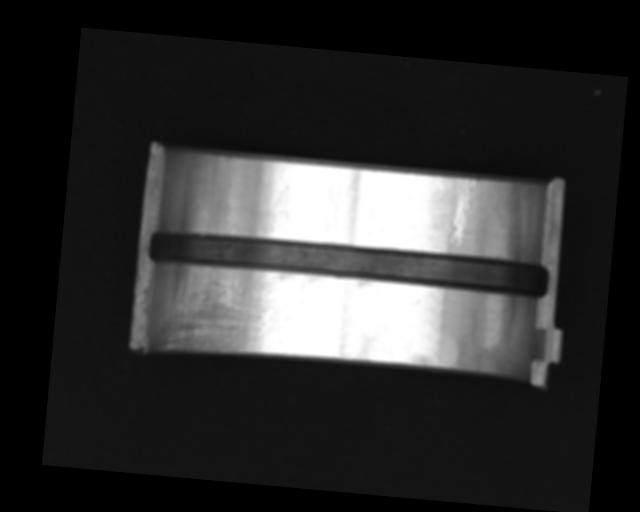gap: (147, 228, 550, 301)
nick: (448, 175, 478, 248)
scratch: (156, 261, 293, 363)
